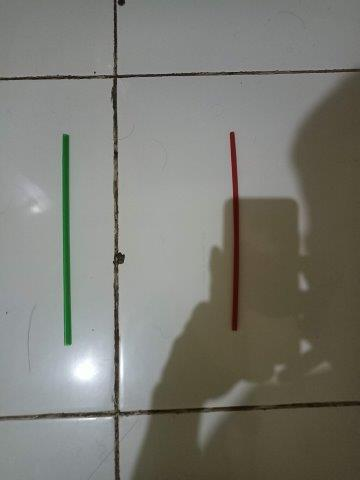sedotan: (63, 134, 72, 346), (230, 132, 239, 331)
